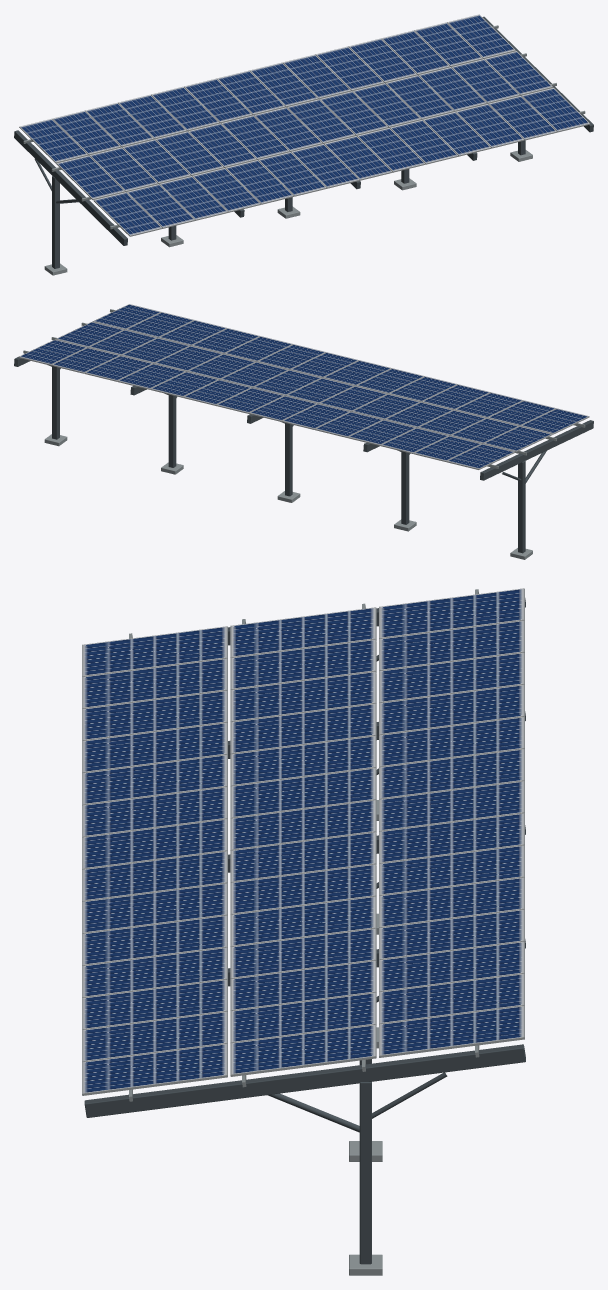
The model's file is pv-carport.glb.
The picture shows the model from 3 angles, top to bottom: view 1: azimuth 30°, elevation 25°; view 2: azimuth 150°, elevation 25°; view 3: azimuth 270°, elevation 25°; orthographic projection. The views are drawn at different scales.
Visible parts, largest first — view 1: 车棚; view 2: 车棚; view 3: 车棚.
Part boxes in pixels (bbox=[...]): 车棚: bbox=[14, 14, 593, 275]; 车棚: bbox=[14, 304, 593, 559]; 车棚: bbox=[82, 588, 525, 1275].
Size of the model in its own units: 16.5 by 3.76 by 6.61.
Materials: 3 (2 with a texture image).
